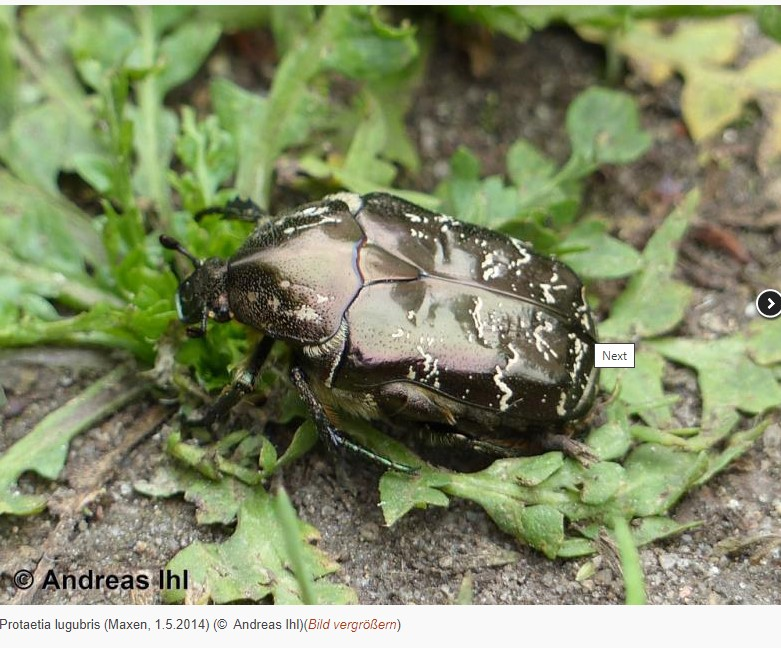Protaetia_lugubris: (149, 186, 615, 510)
